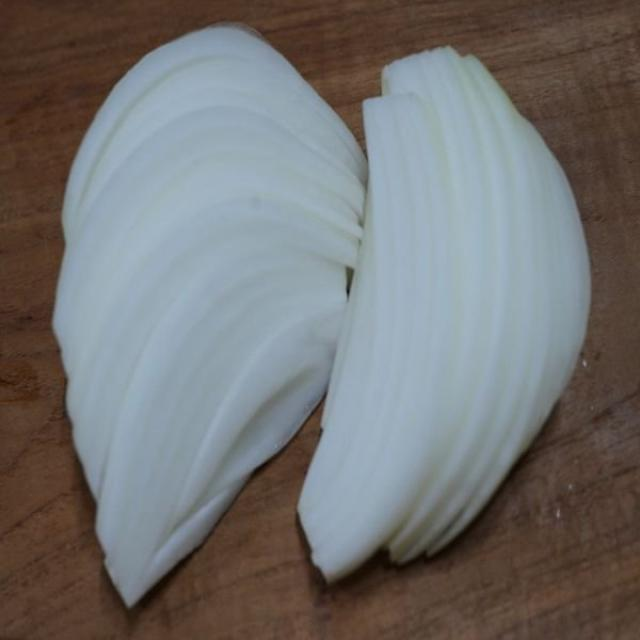onion: (51, 19, 605, 611)
